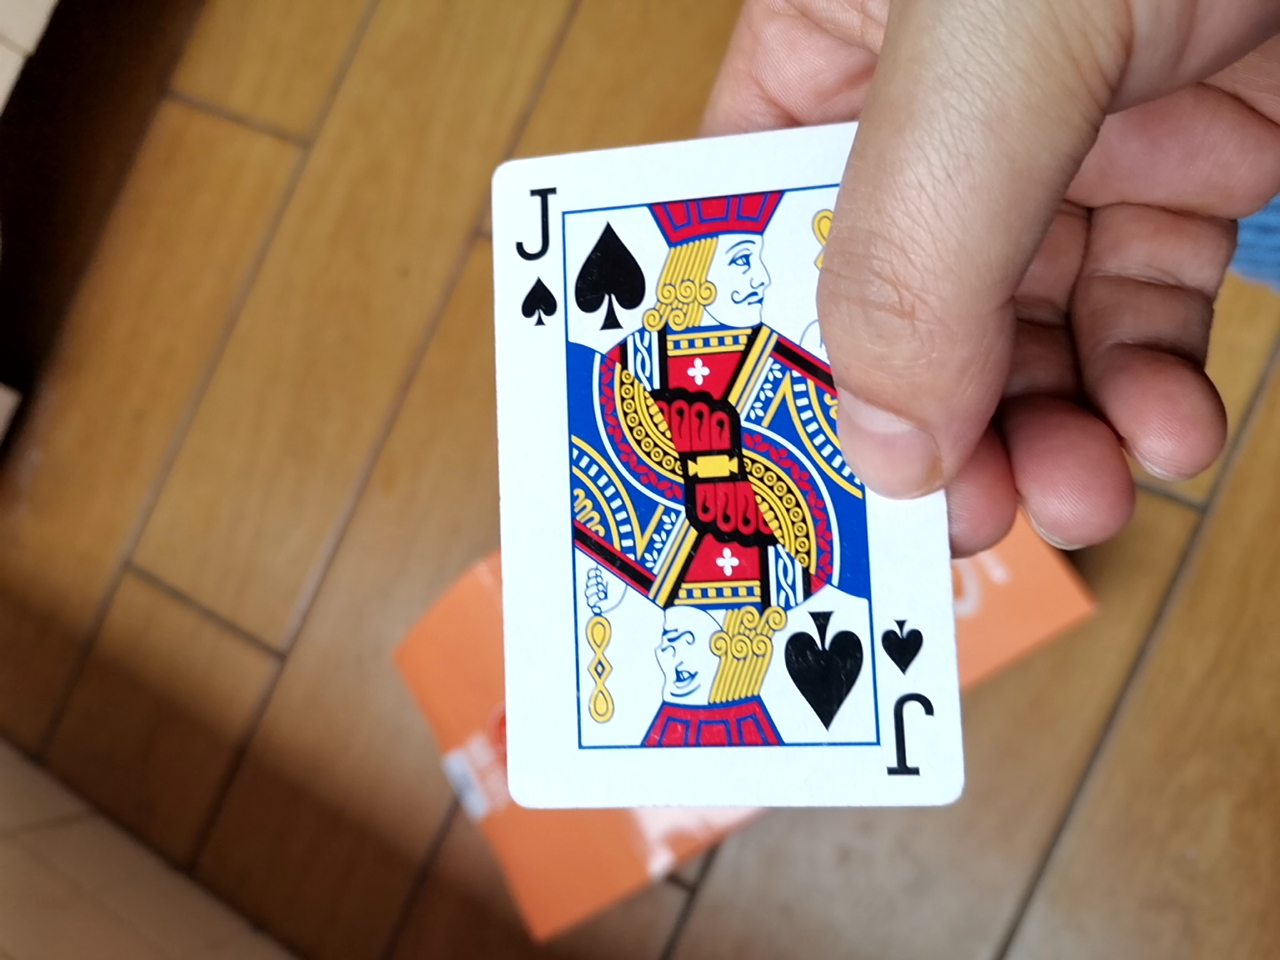ht j: (471, 129, 947, 836)
